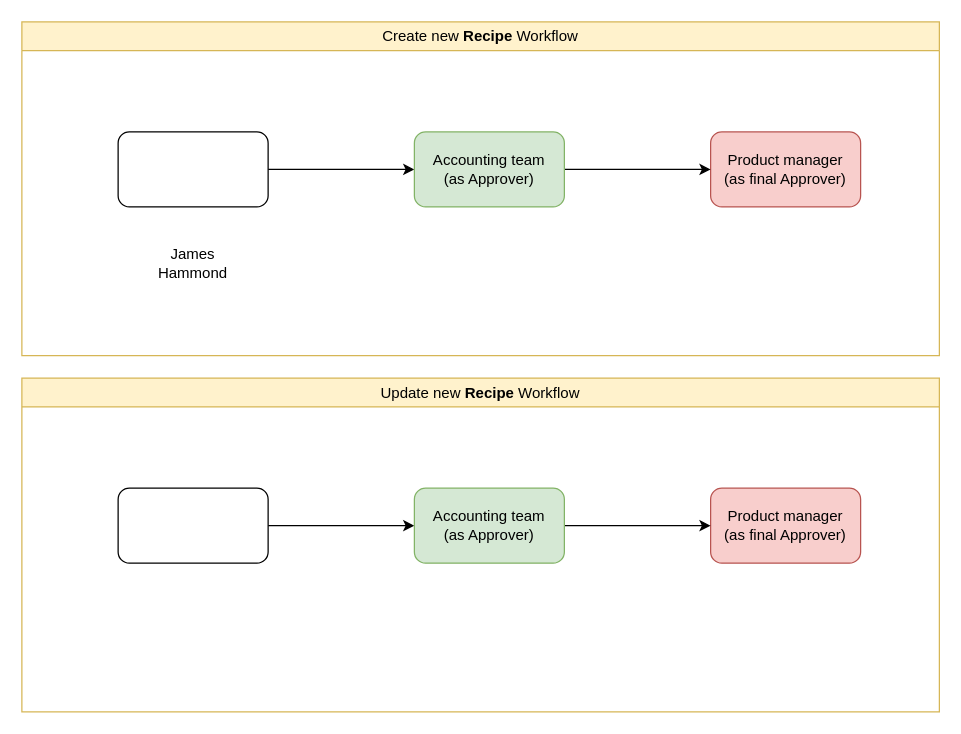
The diagram is 961 pixels wide and 734 high, and some of its shapes have lost their labels. Each missing label, with the centre of its shape:
"(as Requestor)" goes at (192,169).
"Product manager (as Requestor)" goes at (192,525).
